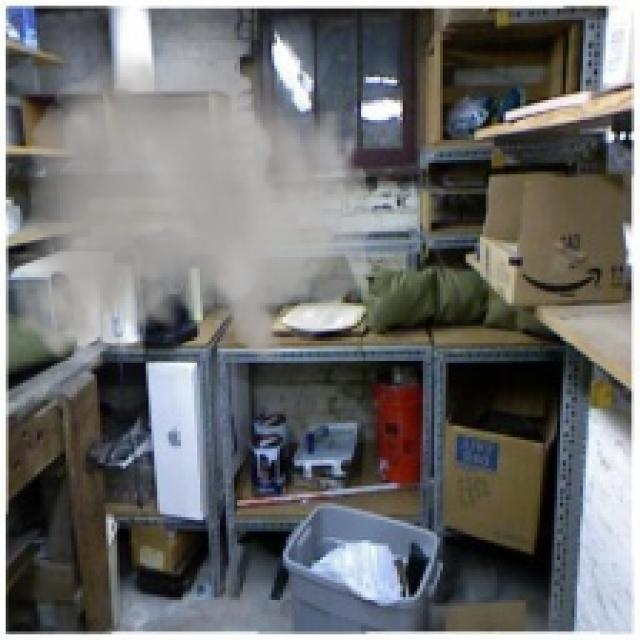Smoke: (11, 6, 372, 372)
